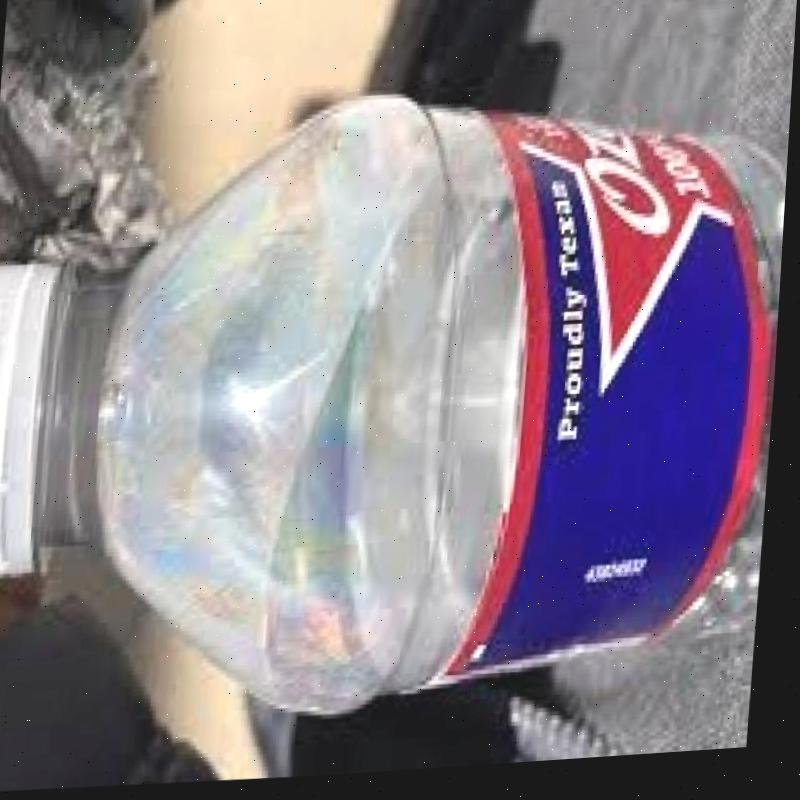botella: (0, 65, 795, 743)
